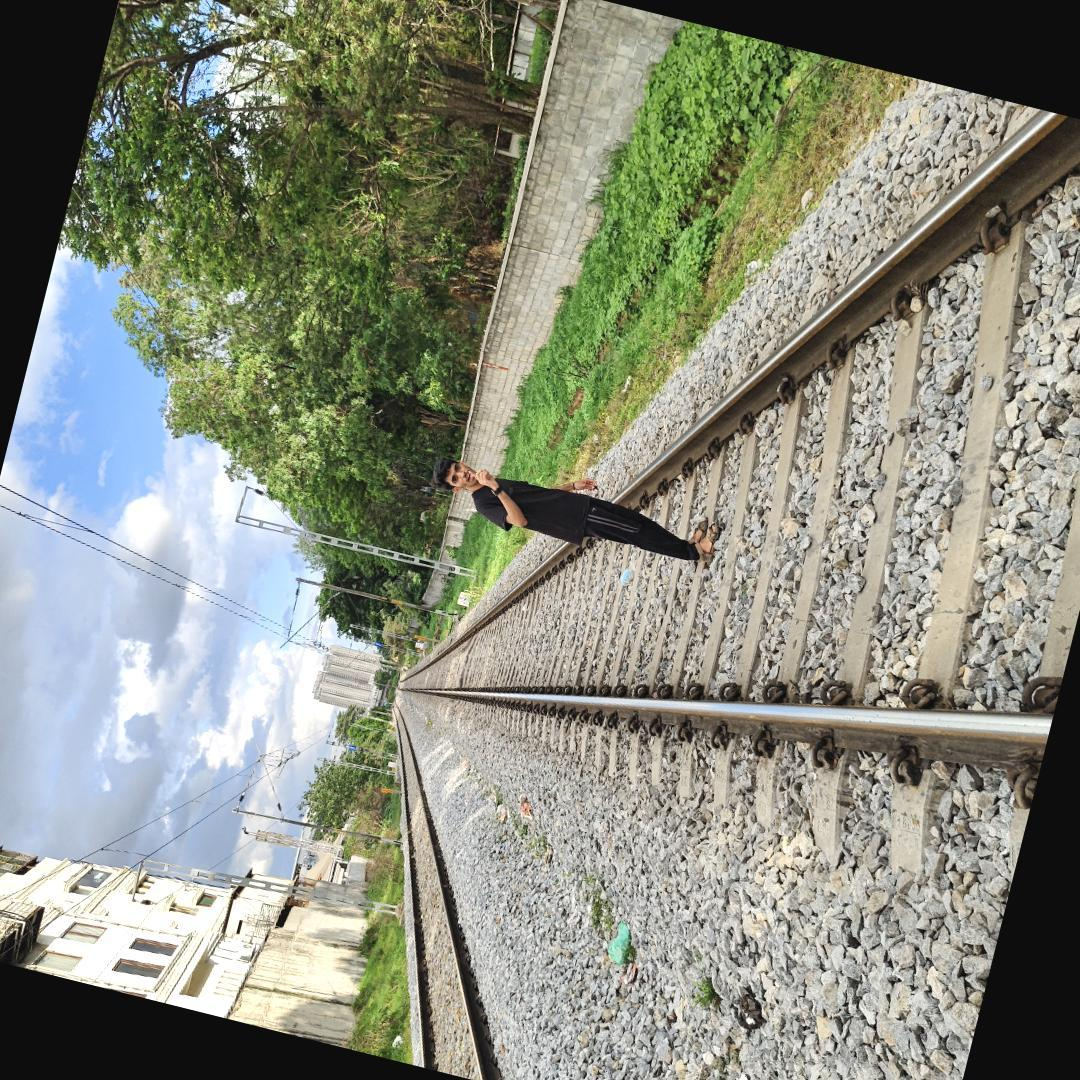standing: (424, 450, 731, 575)
